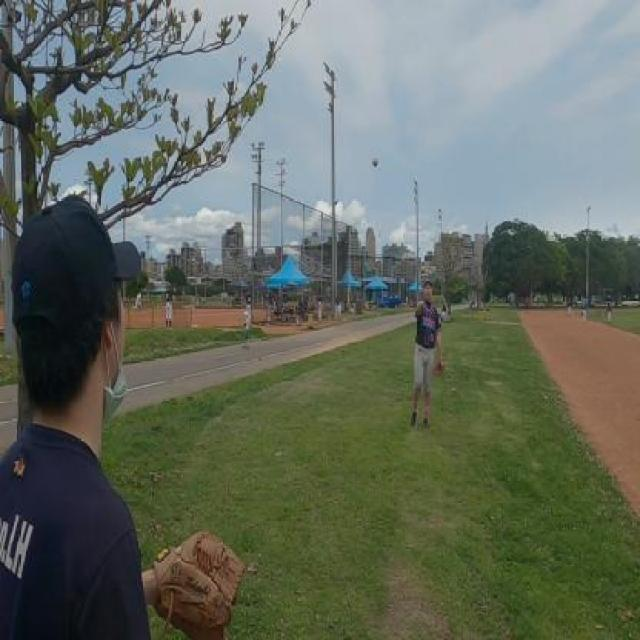baseball: (373, 157, 378, 168)
